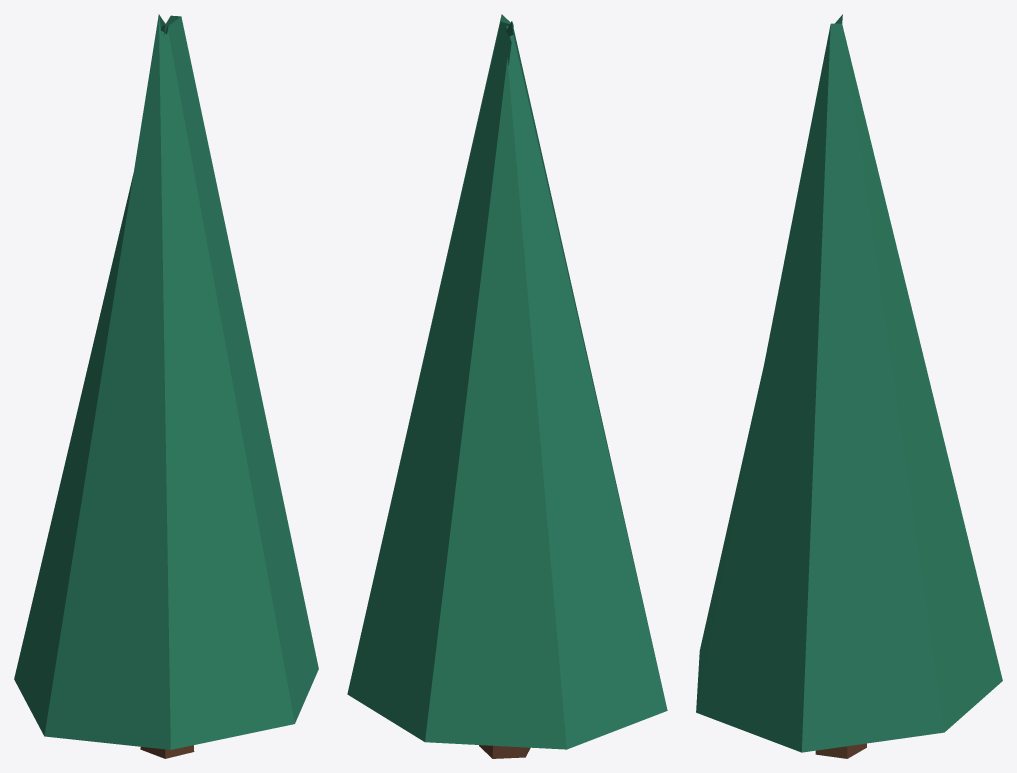
Rendered from tree_cypress_2.glb.
The picture shows the model from 3 angles, left to right: view 1: azimuth 30°, elevation 25°; view 2: azimuth 150°, elevation 25°; view 3: azimuth 270°, elevation 25°; orthographic projection.
Visible parts, largest first — view 1: tree_cypress_2; view 2: tree_cypress_2; view 3: tree_cypress_2.
Boxes of the visible parts, x1,y1,x2,y2 form: tree_cypress_2: [14, 14, 318, 758]; tree_cypress_2: [347, 14, 667, 758]; tree_cypress_2: [696, 14, 1002, 758].
Size of the model in its own units: 1.56 by 3.99 by 1.52.
